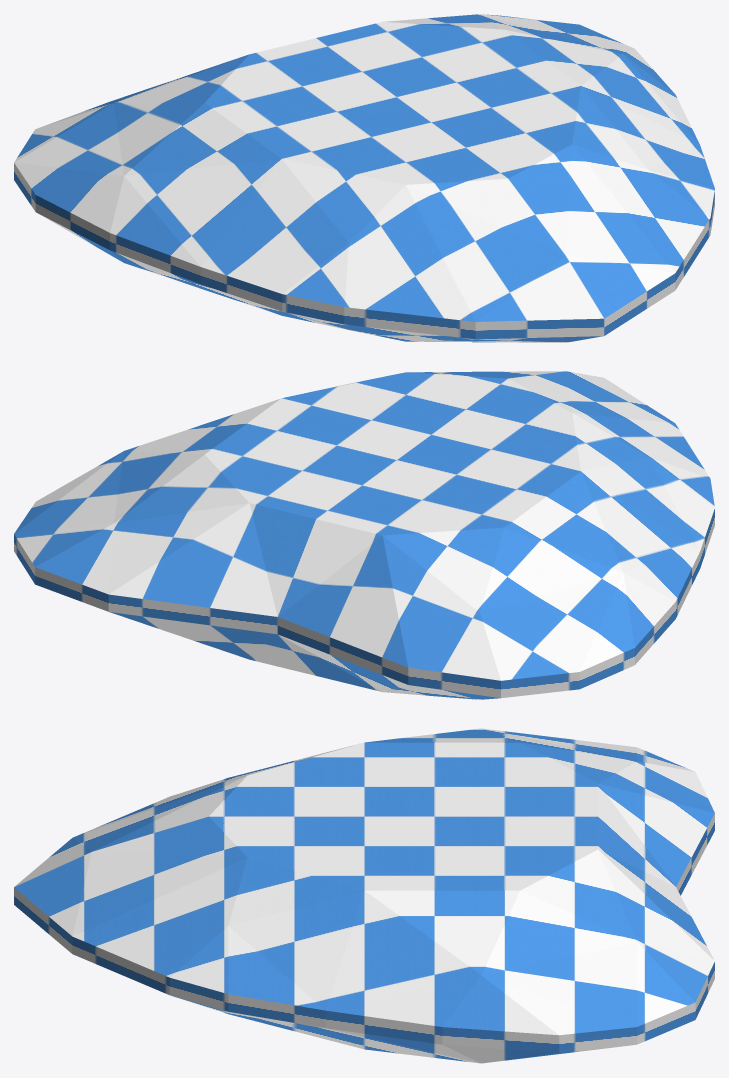
File: HeartCutDouble.FBX
3 views of the same model, one above another, from view 1: azimuth 30°, elevation 25°; view 2: azimuth 150°, elevation 25°; view 3: azimuth 270°, elevation 25° (orthographic).
Parts seen in each view (by area): view 1: HeartCutDouble; view 2: HeartCutDouble; view 3: HeartCutDouble.
Boxes of the visible parts, left/top/right/bottom form: HeartCutDouble: left=14, top=14, right=714, bottom=342; HeartCutDouble: left=14, top=371, right=714, bottom=699; HeartCutDouble: left=14, top=728, right=714, bottom=1063.
Bounding box in the file's own units: 1.14 × 0.2858 × 1.14.
